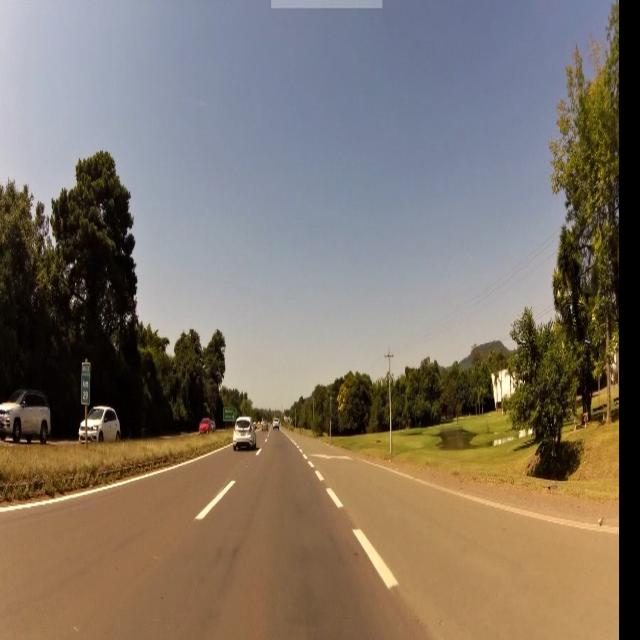RQ: (80, 359, 91, 406)
